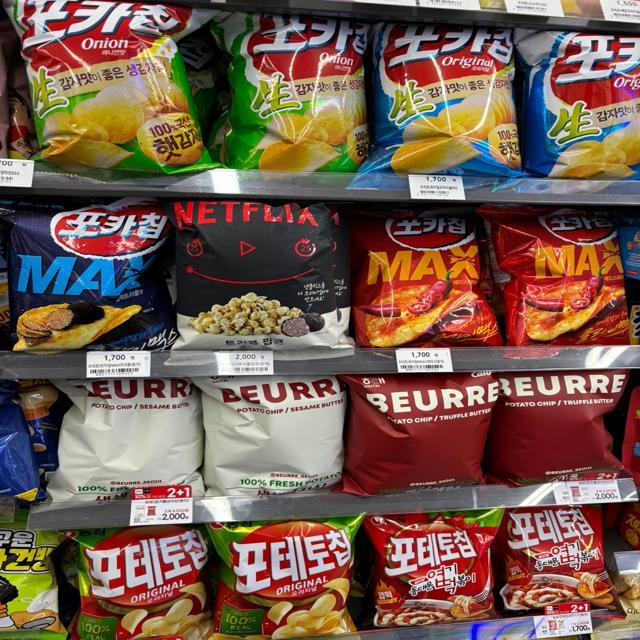product: (15, 1, 198, 172), (177, 193, 343, 350), (367, 17, 527, 176), (13, 199, 176, 355), (217, 9, 363, 171), (361, 211, 496, 344), (54, 377, 197, 501), (198, 376, 345, 493), (504, 212, 627, 349), (208, 523, 357, 633), (535, 30, 640, 184), (352, 376, 489, 494), (497, 374, 631, 490), (71, 525, 205, 640), (369, 512, 499, 618), (509, 506, 614, 616), (6, 523, 57, 633)
